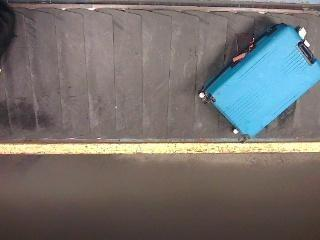Suitcase: (204, 24, 320, 137)
